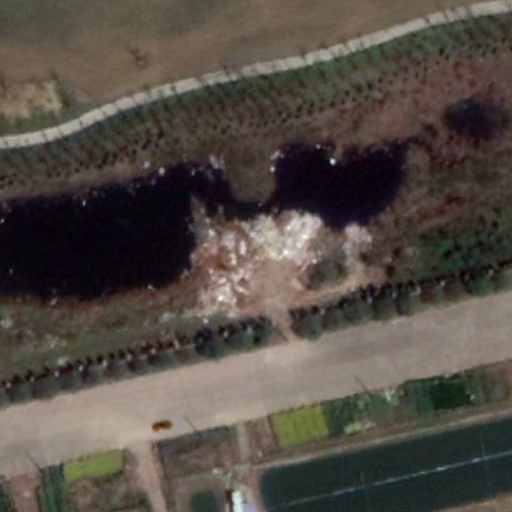msw: (198, 207, 325, 313)
